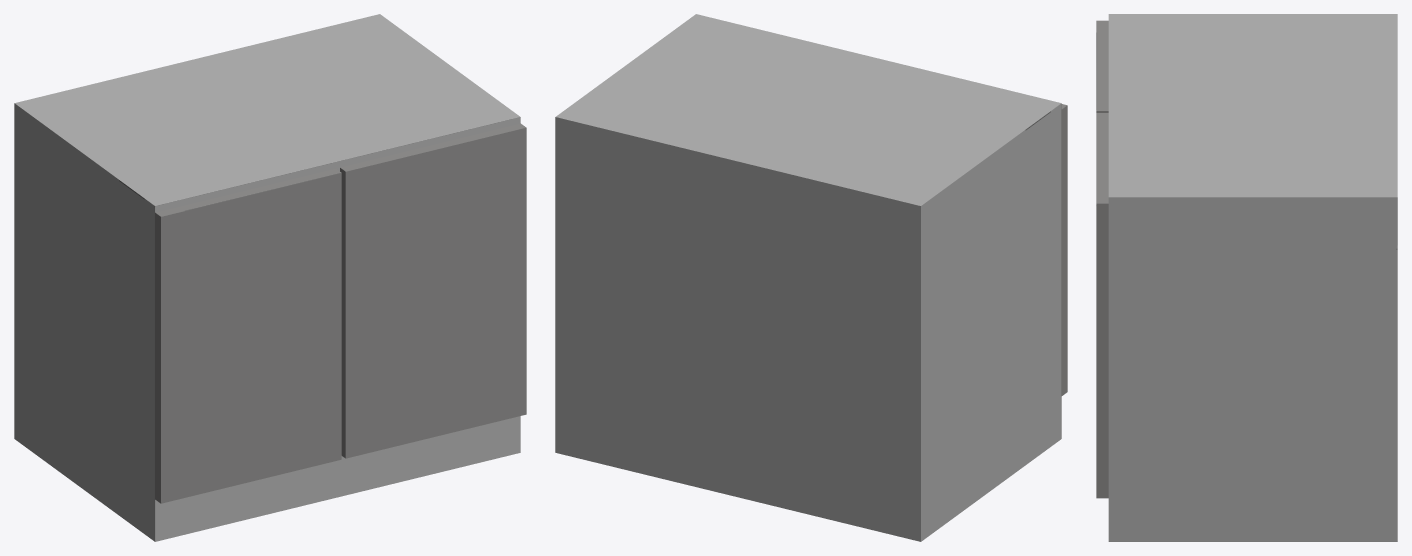
The model's file is storage_90_low.dae.
The picture shows the model from 3 angles, left to right: view 1: azimuth 30°, elevation 25°; view 2: azimuth 150°, elevation 25°; view 3: azimuth 270°, elevation 25°; orthographic projection. The views are drawn at different scales.
Visible parts, largest first — view 1: Skrin_90_low v2; view 2: Skrin_90_low v2; view 3: Skrin_90_low v2.
Boxes of the visible parts, x1,y1,x2,y2 form: Skrin_90_low v2: (14,14,526,541); Skrin_90_low v2: (555,14,1067,541); Skrin_90_low v2: (1096,14,1397,541).
Bounding box in the file's own units: 0.9 × 0.625 × 0.79.
1 material, 1 textured.
